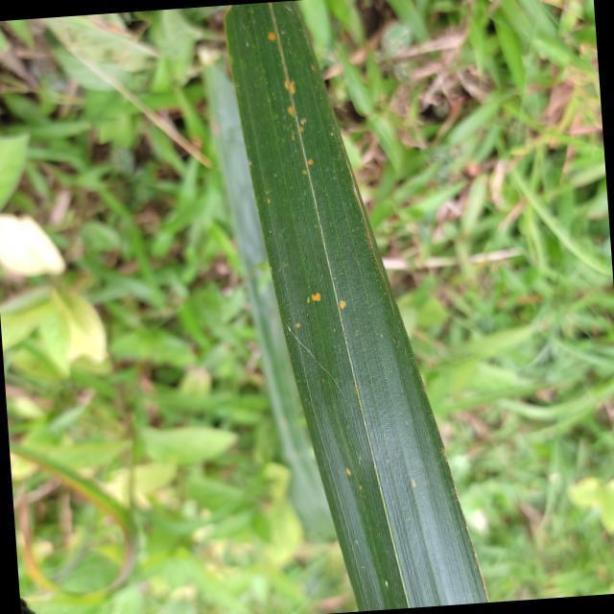Boron: (229, 5, 489, 611)
